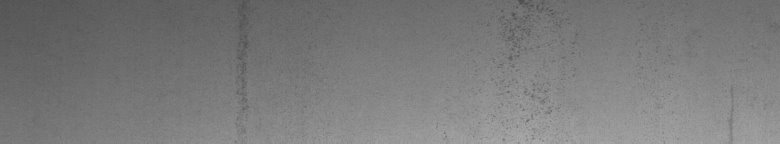ib: (485, 4, 560, 128)
